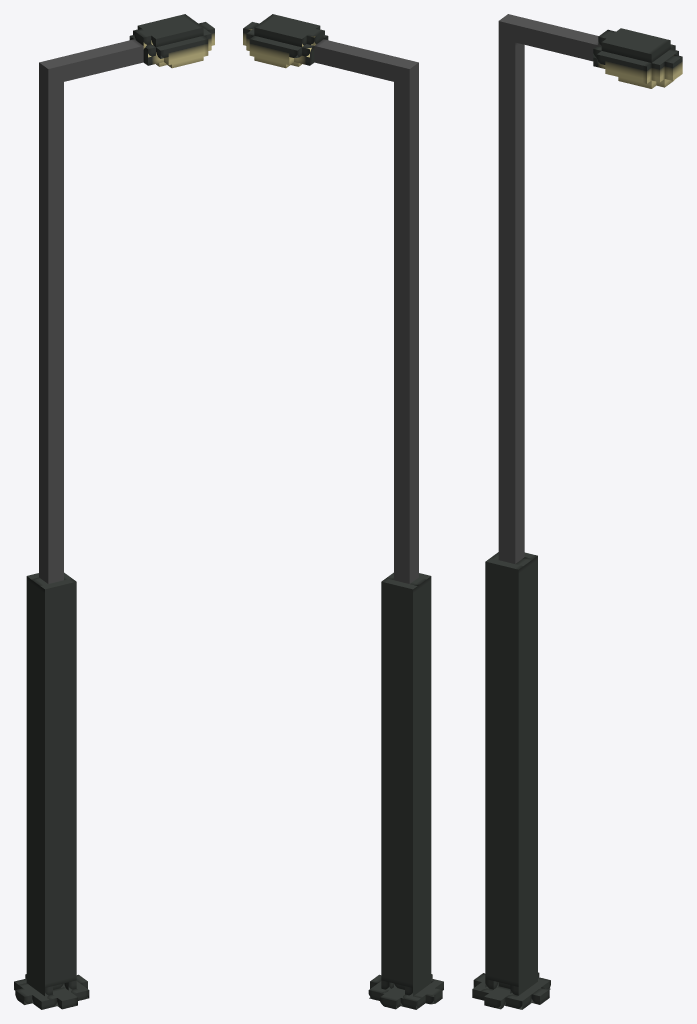
Rendered from Poste.obj.
3 views of the same model, side by side, from view 1: azimuth 30°, elevation 25°; view 2: azimuth 150°, elevation 25°; view 3: azimuth 330°, elevation 25° (orthographic). The views are drawn at different scales.
Parts seen in each view (by area): view 1: Content; view 2: Content; view 3: Content.
Boxes of the visible parts, <box> form: Content: <box>14,14,214,1009</box>; Content: <box>243,14,443,1009</box>; Content: <box>472,14,682,1009</box>.
Bounding box in the file's own units: 0.72 × 3.39 × 0.24.
